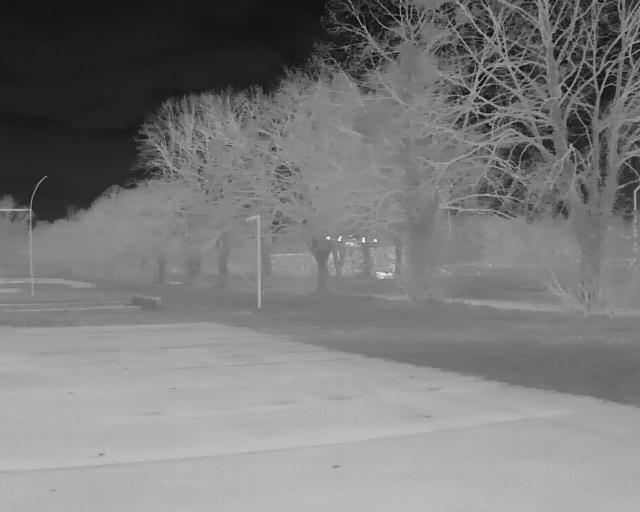drone: (318, 230, 387, 281)
